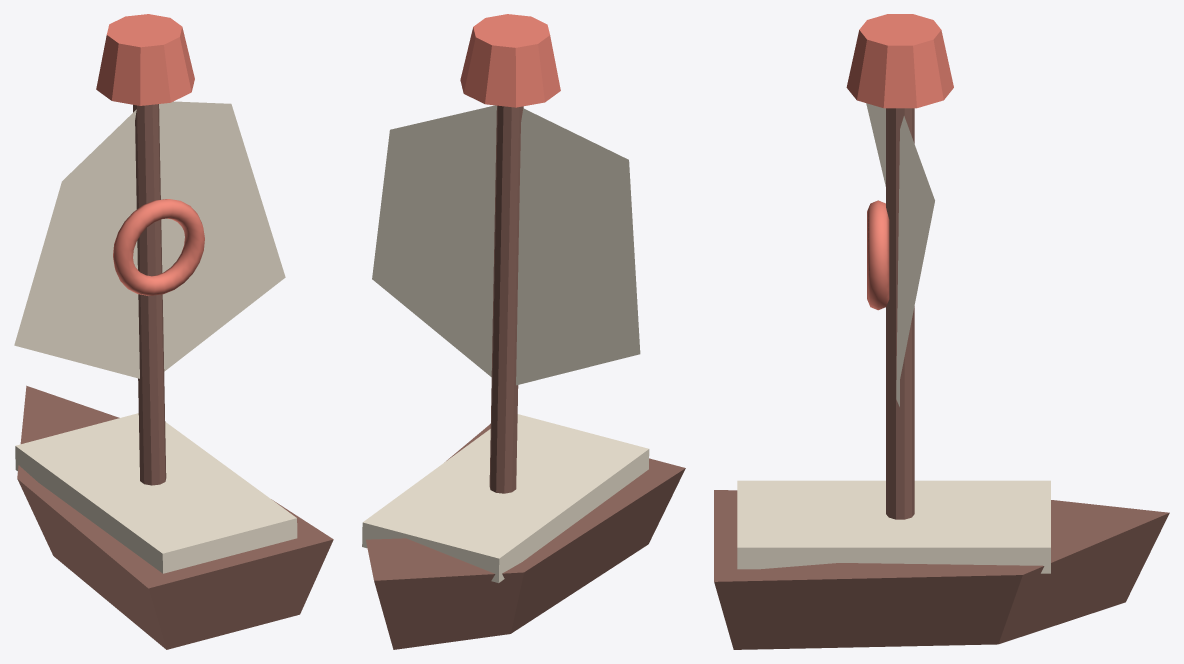
The model's file is scout.glb.
3 views of the same model, side by side, from view 1: azimuth 30°, elevation 25°; view 2: azimuth 150°, elevation 25°; view 3: azimuth 270°, elevation 25° (orthographic). The views are drawn at different scales.
Visible parts, largest first — view 1: Distinctive sail, Carved hull, Pearl deck, Mast, Lookout basket, Crown shell emblem; view 2: Distinctive sail, Pearl deck, Carved hull, Mast, Lookout basket; view 3: Carved hull, Pearl deck, Lookout basket, Mast, Distinctive sail, Crown shell emblem.
Part boxes in pixels (<box>): Distinctive sail: <box>14,101,285,378</box>; Carved hull: <box>17,385,333,649</box>; Pearl deck: <box>15,413,297,573</box>; Mast: <box>133,104,166,485</box>; Lookout basket: <box>96,14,194,105</box>; Crown shell emblem: <box>113,199,204,295</box>; Distinctive sail: <box>372,105,640,385</box>; Pearl deck: <box>362,414,649,582</box>; Carved hull: <box>366,424,685,649</box>; Mast: <box>489,105,523,493</box>; Lookout basket: <box>460,14,560,107</box>; Carved hull: <box>714,490,1169,649</box>; Pearl deck: <box>737,480,1050,573</box>; Lookout basket: <box>846,14,953,108</box>; Mast: <box>886,108,914,519</box>; Distinctive sail: <box>866,103,934,406</box>; Crown shell emblem: <box>867,200,889,310</box>.
Bounding box in the file's own units: 1.04 × 2.04 × 1.44.
